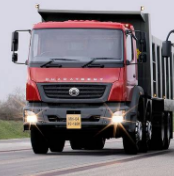truck: (10, 4, 174, 161)
